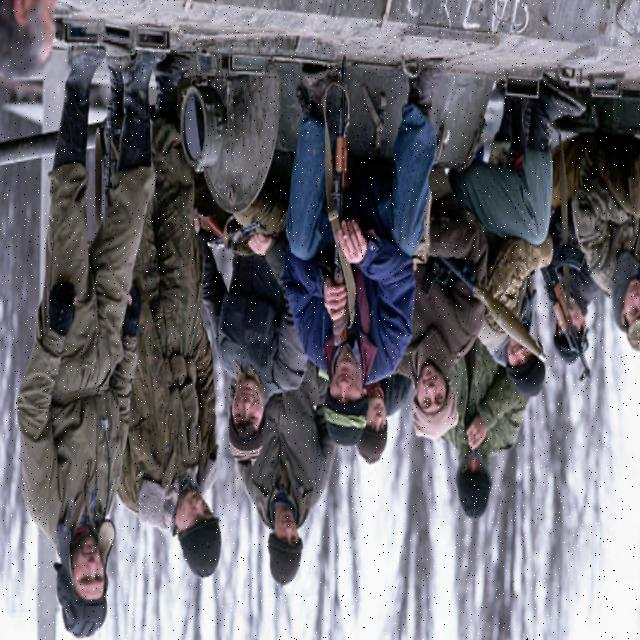bazooka: (435, 253, 552, 375)
